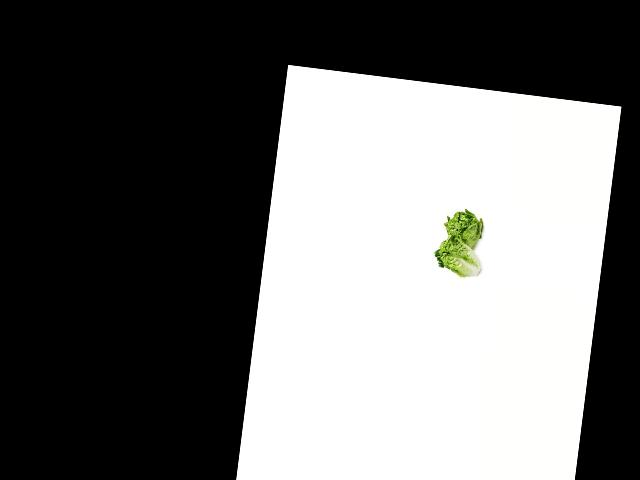lettuce: (440, 206, 490, 254)
